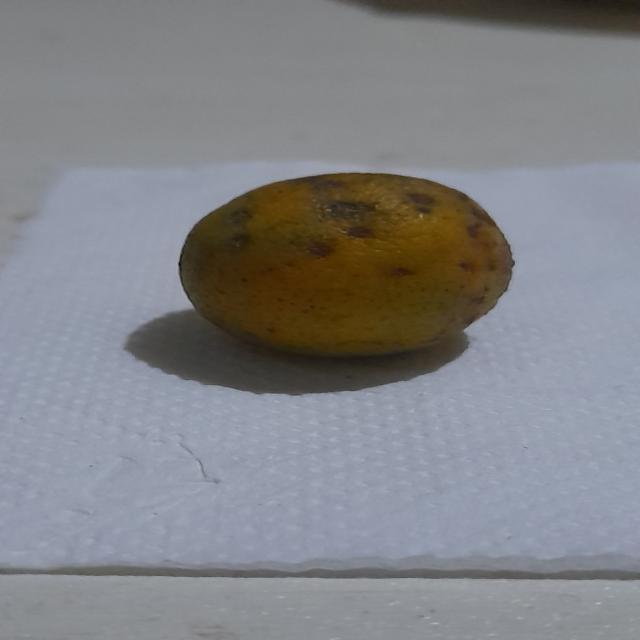black spot: (181, 168, 521, 356)
